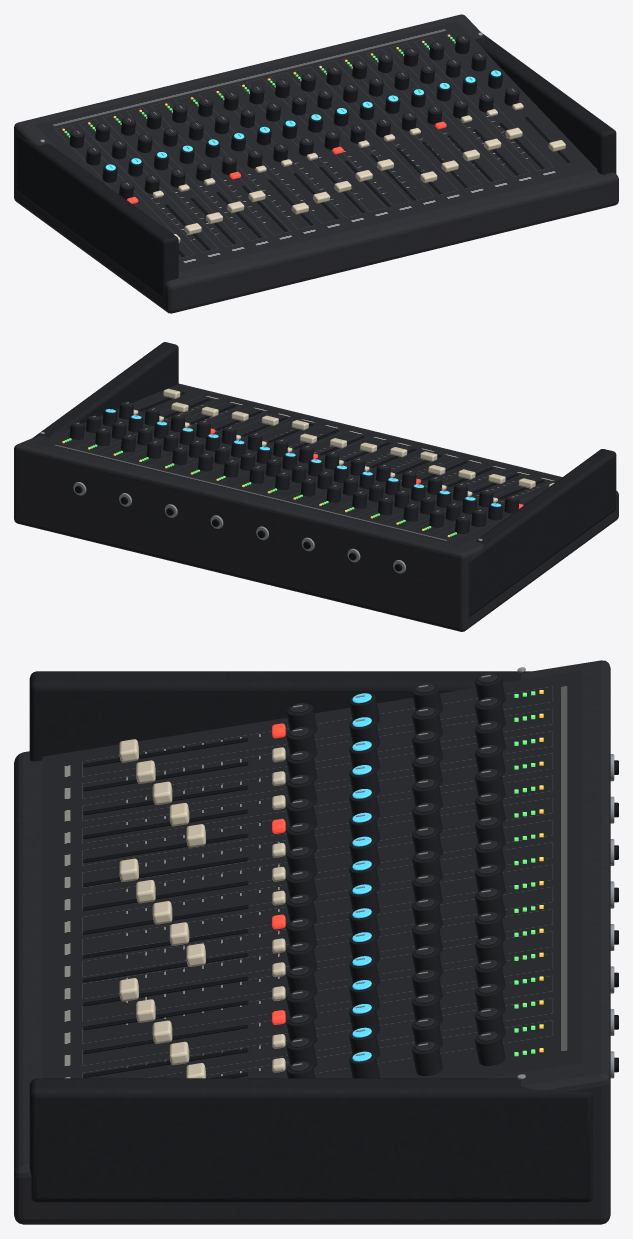
The model's file is 07_mixing_console.glb.
The picture shows the model from 3 angles, top to bottom: view 1: azimuth 30°, elevation 25°; view 2: azimuth 150°, elevation 25°; view 3: azimuth 270°, elevation 25°; orthographic projection. The views are drawn at different scales.
Visible parts, largest first — view 1: 07_mixing_console__printed_control_face, 07_mixing_console__sloping_case, 07_mixing_console__side_grip, 07_mixing_console__side_grip.001; view 2: 07_mixing_console__sloping_case, 07_mixing_console__printed_control_face, 07_mixing_console__side_grip, 07_mixing_console__side_grip.001; view 3: 07_mixing_console__printed_control_face, 07_mixing_console__side_grip.001, 07_mixing_console__sloping_case, 07_mixing_console__side_grip.
Part boxes in pixels (left/top/right/bottom): 07_mixing_console__printed_control_face: left=35, top=21, right=597, bottom=271; 07_mixing_console__sloping_case: left=14, top=14, right=618, bottom=313; 07_mixing_console__side_grip: left=16, top=134, right=178, bottom=298; 07_mixing_console__side_grip.001: left=475, top=33, right=616, bottom=174; 07_mixing_console__sloping_case: left=14, top=383, right=618, bottom=631; 07_mixing_console__printed_control_face: left=35, top=384, right=560, bottom=545; 07_mixing_console__side_grip: left=469, top=449, right=616, bottom=616; 07_mixing_console__side_grip.001: left=33, top=342, right=178, bottom=437; 07_mixing_console__printed_control_face: left=42, top=670, right=581, bottom=1078; 07_mixing_console__side_grip.001: left=29, top=1078, right=592, bottom=1202; 07_mixing_console__sloping_case: left=14, top=660, right=610, bottom=1224; 07_mixing_console__side_grip: left=29, top=671, right=530, bottom=761.
Size of the model in its own units: 0.955 by 0.172 by 0.578.
10 materials, 10 textured.
